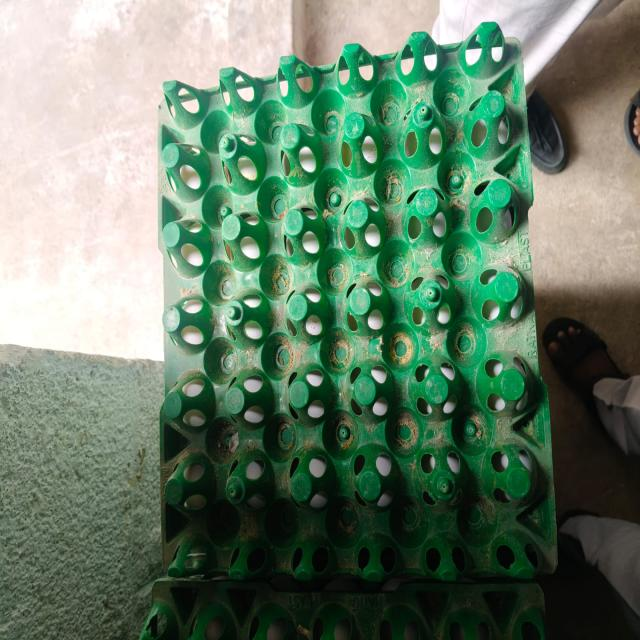egg_tray: (160, 23, 555, 580), (140, 579, 545, 639), (290, 585, 290, 587)
